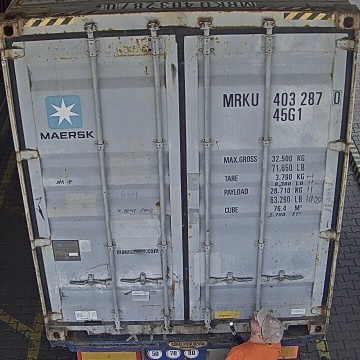serial_id: (223, 90, 342, 106)
